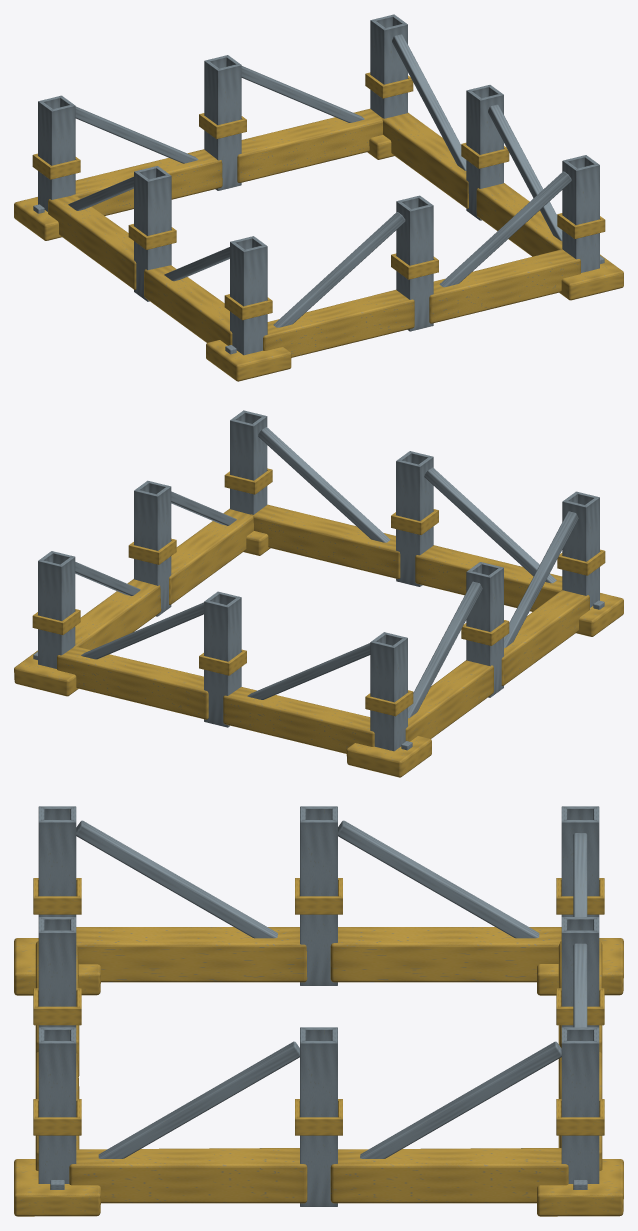
3 renders of one model, top to bottom at view 1: azimuth 30°, elevation 25°; view 2: azimuth 150°, elevation 25°; view 3: azimuth 270°, elevation 25°, orthographic. The views are drawn at different scales.
Parts seen in each view (by area): view 1: Tier 0 bay 2-0-0 service deck, Tier 0 bay 0-0-1 service deck, Tier 0 bay 0-0-0 service deck, Tier 0 bay 3-0-0 service deck, Tier 0 bay 1-0-1 service deck, Tier 0 bay 3-0-1 service deck, Tier 0 bay 2-0-1 service deck, Tier 0 side 2 post 1, Tier 0 side 0 post 0, Tier 0 side 0 post 1, Tier 0 side 3 post 1, Tier 0 side 1 post 0 (+23 smaller); view 2: Tier 0 bay 2-0-0 service deck, Tier 0 bay 0-0-1 service deck, Tier 0 bay 2-0-1 service deck, Tier 0 bay 1-0-0 service deck, Tier 0 bay 3-0-1 service deck, Tier 0 bay 0-0-0 service deck, Tier 0 bay 3-0-0 service deck, Tier 0 side 2 post 1, Tier 0 side 3 post 0, Tier 0 side 0 post 1, Tier 0 side 1 post 1, Tier 0 side 2 post 0 (+23 smaller); view 3: Tier 0 bay 1-0-1 service deck, Tier 0 bay 1-0-0 service deck, Tier 0 bay 3-0-1 service deck, Tier 0 bay 3-0-0 service deck, Tier 0 side 3 post 1, Tier 0 side 1 post 1, Tier 0 side 1 post 0, Tier 0 side 2 post 0, Tier 0 bay 3-0-1 diagonal, Tier 0 bay 3-0-0 diagonal, Tier 0 bay 1-0-1 diagonal, Tier 0 bay 1-0-0 diagonal (+20 smaller).
Part boxes in pixels (x1,y1,x2,y2): Tier 0 bay 2-0-0 service deck: [237, 109, 382, 182]; Tier 0 bay 0-0-1 service deck: [429, 249, 580, 323]; Tier 0 bay 0-0-0 service deck: [263, 290, 414, 357]; Tier 0 bay 3-0-0 service deck: [48, 195, 136, 289]; Tier 0 bay 1-0-1 service deck: [381, 112, 468, 208]; Tier 0 bay 3-0-1 service deck: [144, 265, 232, 345]; Tier 0 bay 2-0-1 service deck: [72, 149, 222, 215]; Tier 0 side 2 post 1: [204, 55, 241, 190]; Tier 0 side 0 post 0: [230, 236, 267, 355]; Tier 0 side 0 post 1: [396, 195, 433, 331]; Tier 0 side 3 post 1: [134, 166, 171, 301]; Tier 0 side 1 post 0: [562, 155, 599, 272]; Tier 0 bay 2-0-0 service deck: [57, 646, 208, 719]; Tier 0 bay 0-0-1 service deck: [250, 504, 400, 578]; Tier 0 bay 2-0-1 service deck: [223, 687, 374, 753]; Tier 0 bay 1-0-0 service deck: [169, 508, 253, 604]; Tier 0 bay 3-0-1 service deck: [501, 590, 589, 685]; Tier 0 bay 0-0-0 service deck: [415, 545, 562, 611]; Tier 0 bay 3-0-0 service deck: [405, 660, 493, 741]; Tier 0 side 2 post 1: [204, 591, 241, 727]; Tier 0 side 3 post 0: [370, 632, 407, 751]; Tier 0 side 0 post 1: [396, 451, 433, 586]; Tier 0 side 1 post 1: [134, 480, 171, 616]; Tier 0 side 2 post 0: [38, 551, 75, 668]; Tier 0 bay 1-0-1 service deck: [330, 1148, 568, 1203]; Tier 0 bay 1-0-0 service deck: [69, 1148, 307, 1203]; Tier 0 bay 3-0-1 service deck: [76, 927, 307, 982]; Tier 0 bay 3-0-0 service deck: [330, 927, 561, 982]; Tier 0 side 3 post 1: [300, 806, 337, 985]; Tier 0 side 1 post 1: [300, 1027, 337, 1206]; Tier 0 side 1 post 0: [38, 1027, 76, 1183]; Tier 0 side 2 post 0: [561, 1027, 599, 1183]; Tier 0 bay 3-0-1 diagonal: [76, 820, 277, 938]; Tier 0 bay 3-0-0 diagonal: [338, 820, 539, 938]; Tier 0 bay 1-0-1 diagonal: [360, 1041, 561, 1158]; Tier 0 bay 1-0-0 diagonal: [98, 1041, 299, 1158].
Size of the model in its own units: 1.05 by 0.3118 by 1.05.
Materials: 2 (2 with a texture image).
